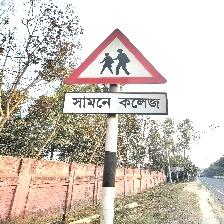College-in-front: (53, 14, 163, 112)
